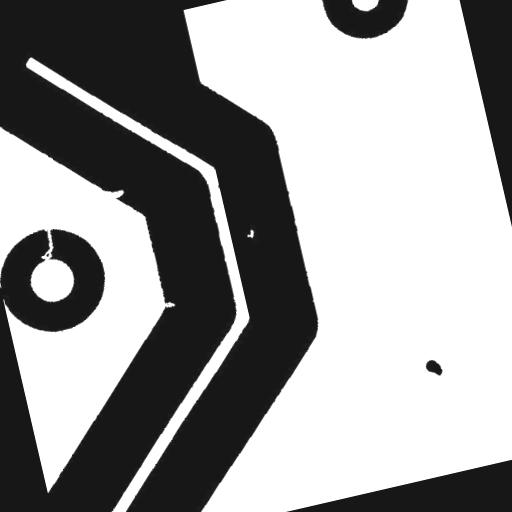copper: (415, 349, 452, 387)
mousebite: (96, 178, 134, 209), (151, 292, 184, 318)
open: (25, 217, 69, 272)
pin-hole: (236, 220, 264, 248)
